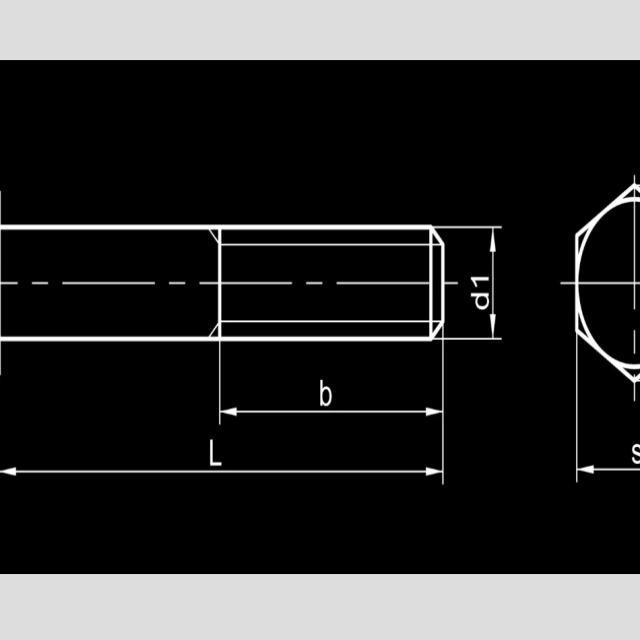marking_line: (0, 346, 449, 496), (213, 346, 450, 432), (572, 385, 640, 495), (447, 222, 505, 342), (577, 360, 602, 479)
numeric: (469, 271, 490, 288)
